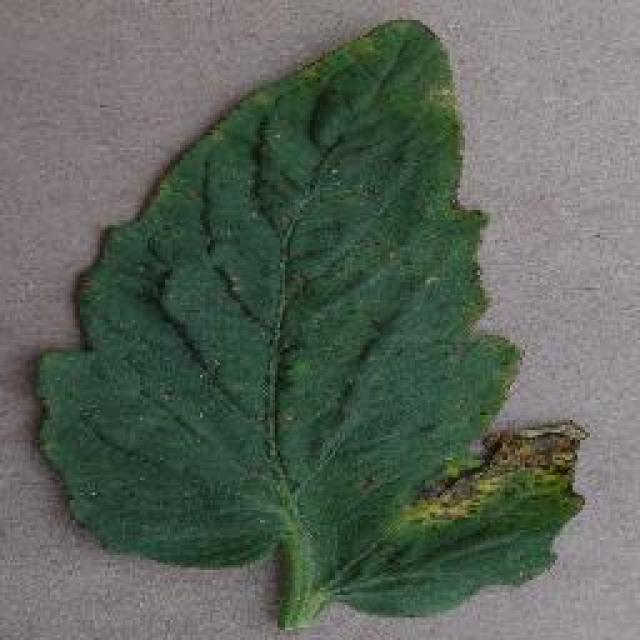Tomato___Bacterial_spot: (33, 13, 598, 630)
